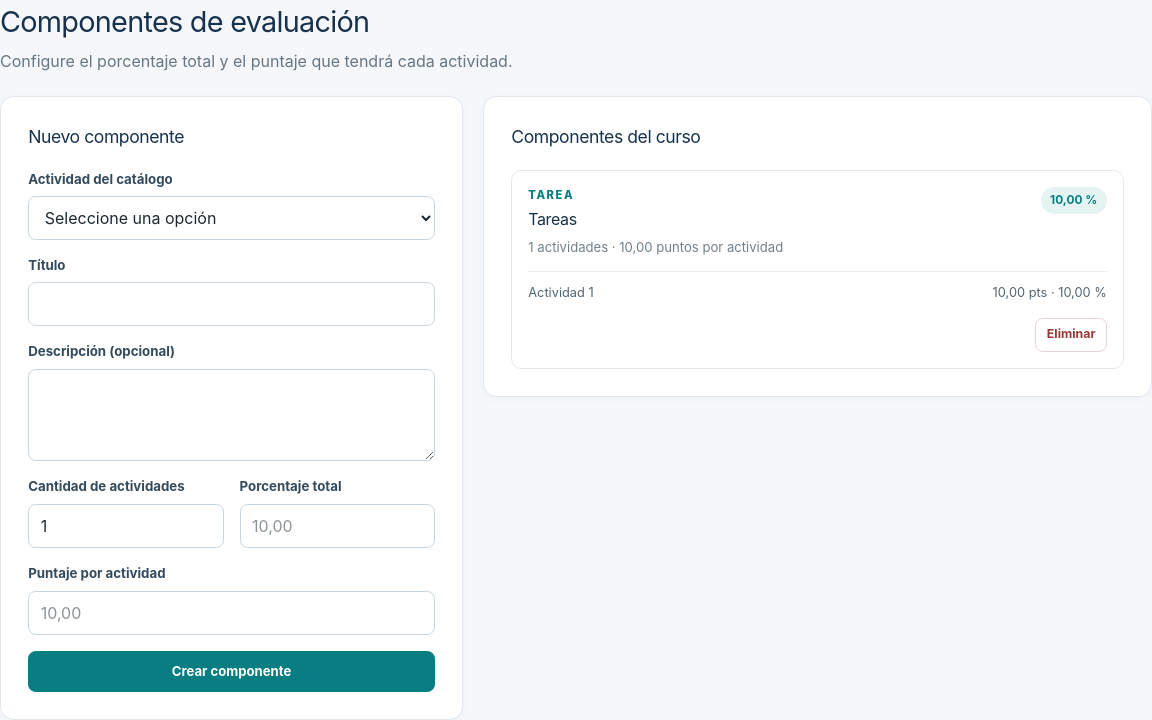
it: un rechazo conserva el componente y muestra el motivo; Escape cierra el cuadro
The image size is (1152, 720).
Click the button "Eliminar".
click(1071, 335)  # box [1036, 318, 1107, 352]
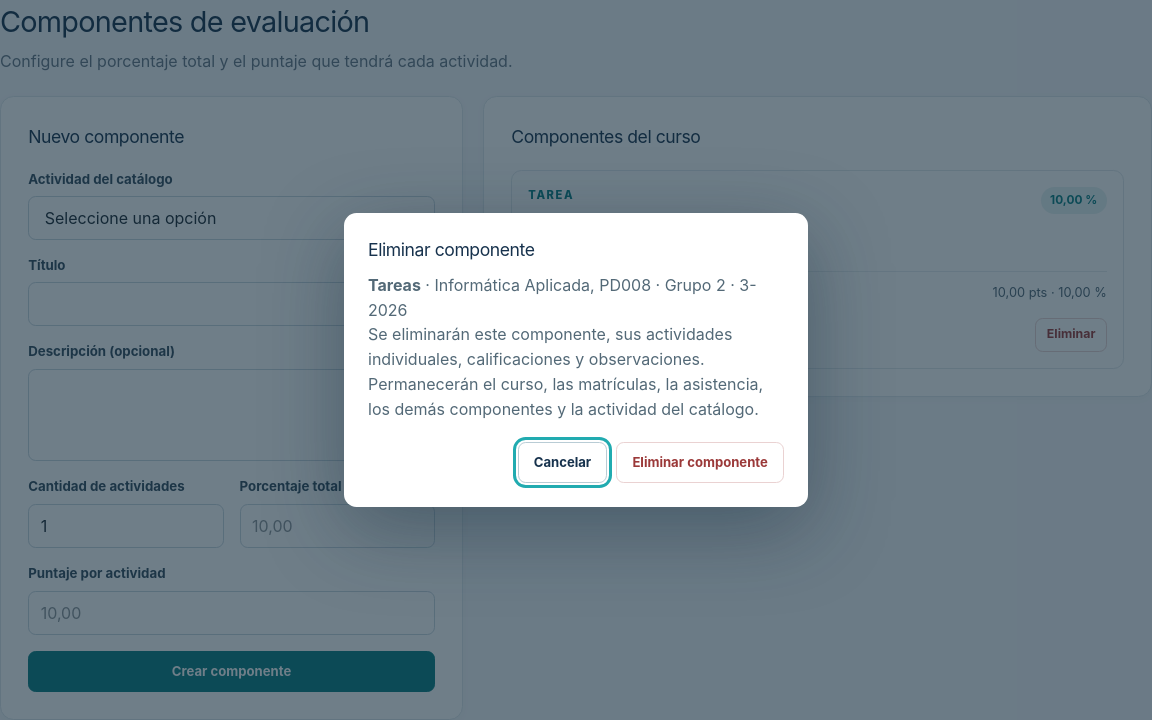
Click the button "Eliminar componente".
click(700, 463)  # box [616, 442, 784, 483]
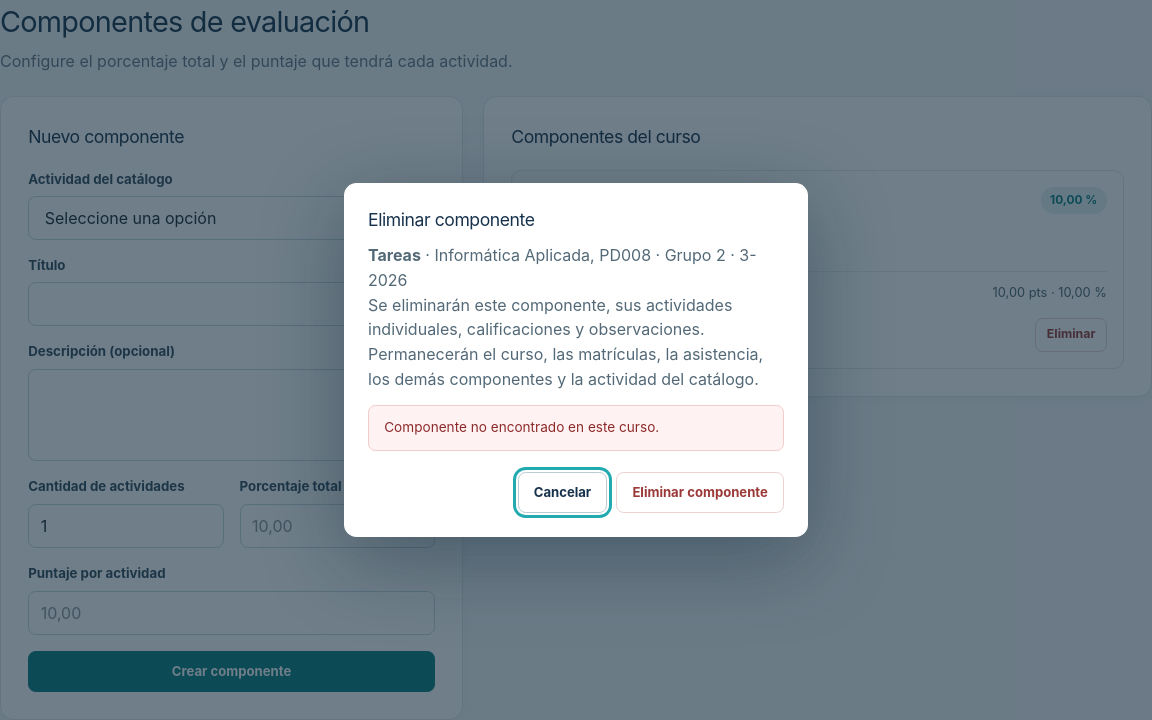
Expected: the heading "Tareas" is shown, [528, 207, 577, 231]
Expected: the text "Componente no encontrado en este curso." is shown, [368, 405, 784, 451]
Press Escape
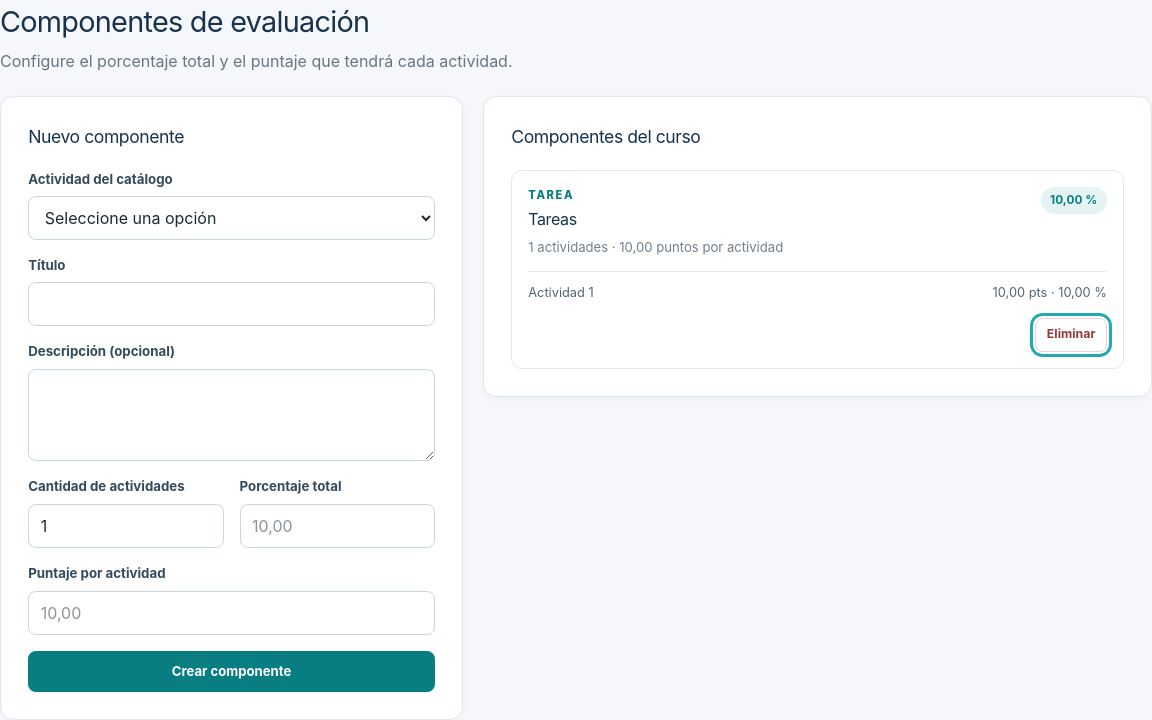
Expected: the dialog is gone
